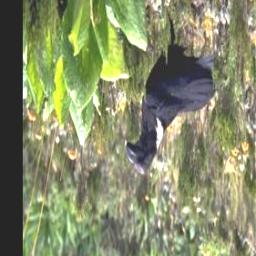Crow: (125, 12, 217, 178)
